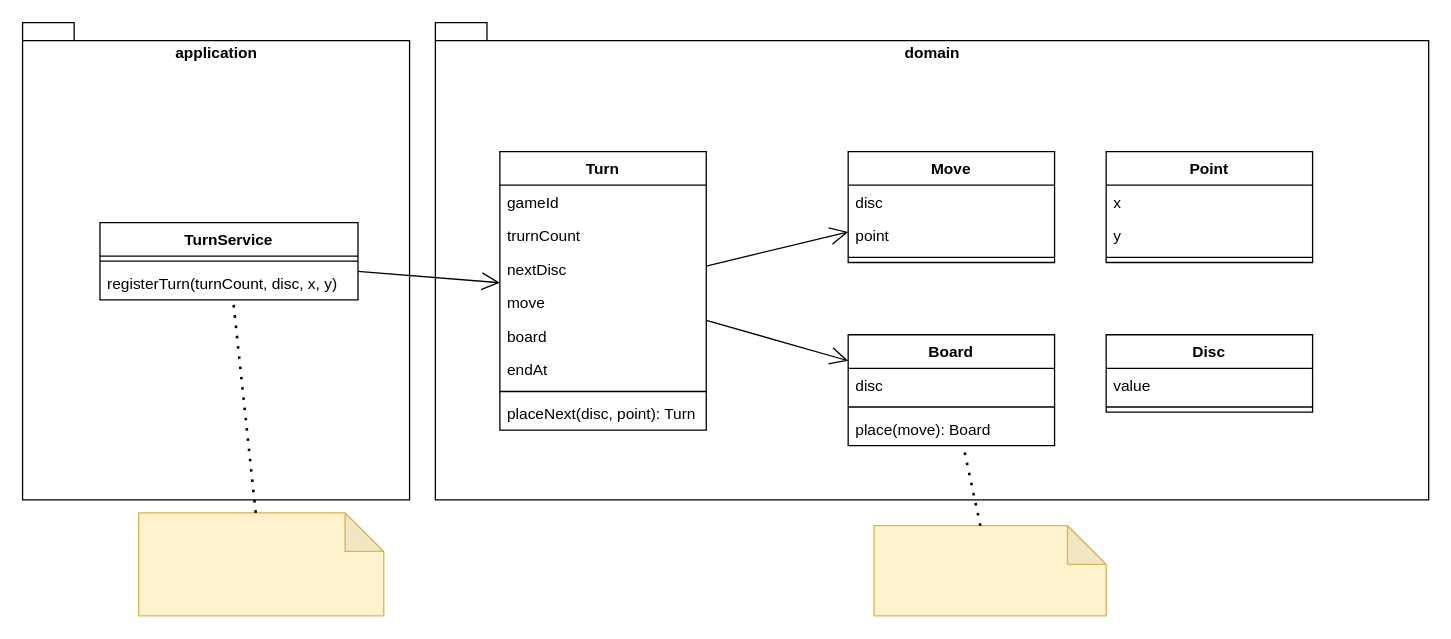
This 1451x639 diagram has some shape labels left out. The shapes that lost their labels are listed below. From the top down, each one's centre as x and y in pixels, then its label:
(260,563): ・一つ前のターンを取得する ・石を置く ・ターンを保存する
(989,570): place内部では ・盤面におけるかチェック ・石を置く ・ひっくり返す
